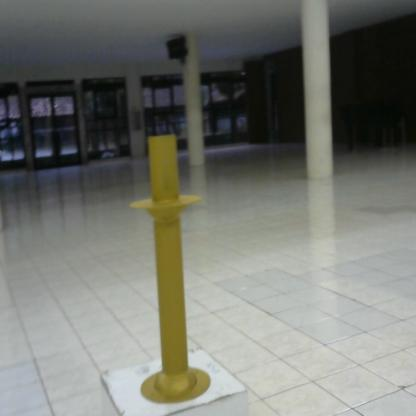pole: (124, 125, 218, 416)
